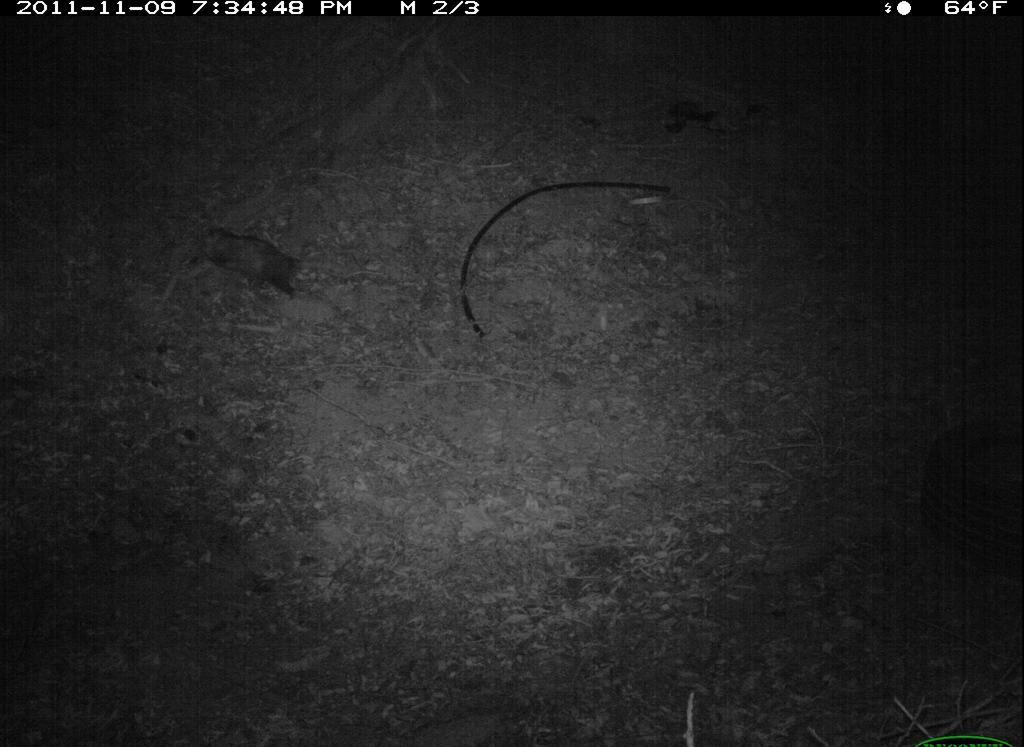opossum: (195, 218, 314, 304)
